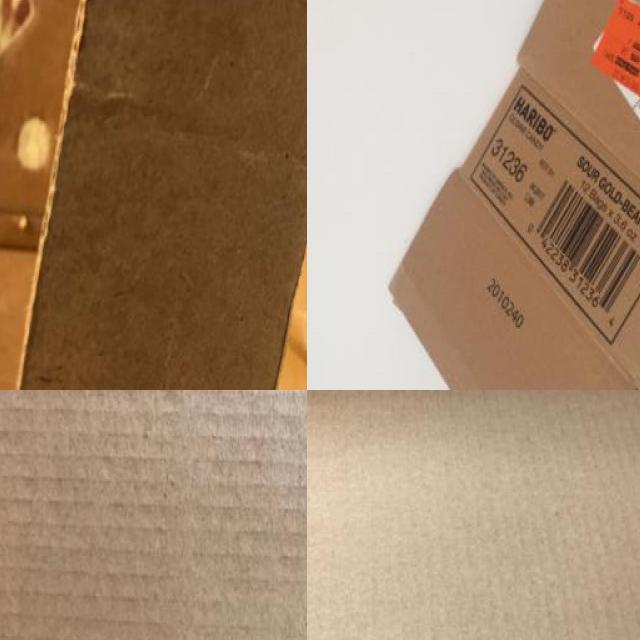class_name: (0, 0, 307, 390), (390, 0, 640, 390), (307, 390, 640, 640), (0, 390, 307, 640)
